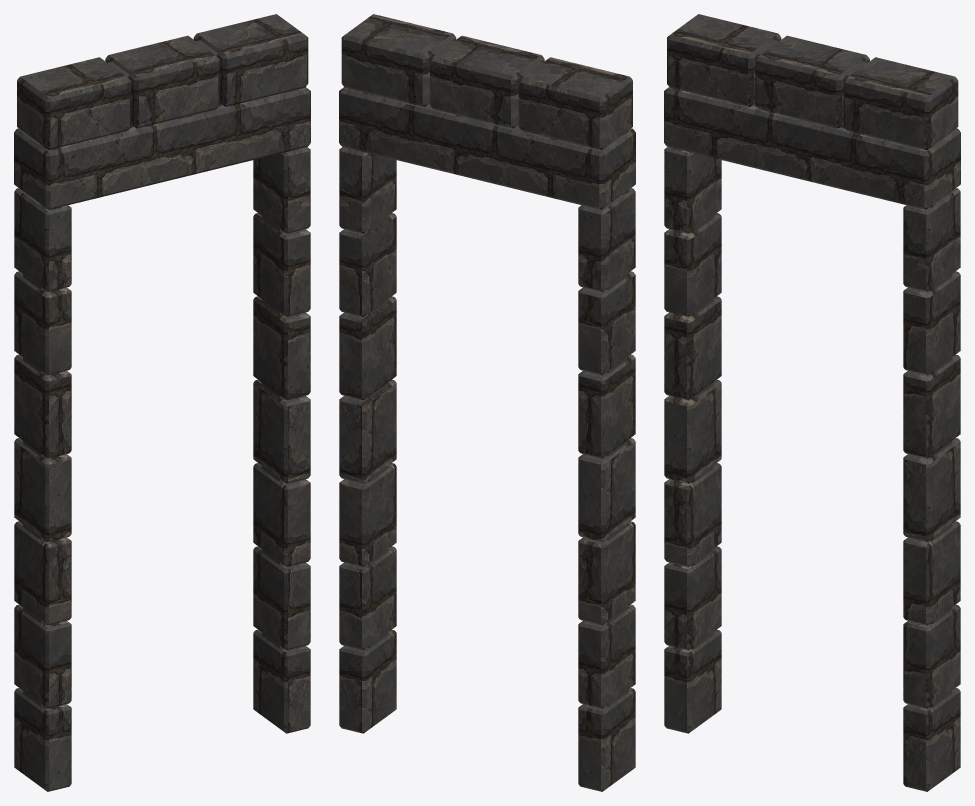
Rendered from doorframe_stone.glb.
The picture shows the model from 3 angles, left to right: view 1: azimuth 30°, elevation 25°; view 2: azimuth 150°, elevation 25°; view 3: azimuth 330°, elevation 25°; orthographic projection.
Parts seen in each view (by area): view 1: doorframe_stone; view 2: doorframe_stone; view 3: doorframe_stone.
Boxes of the visible parts, <box> form: doorframe_stone: <box>14,14,310,791</box>; doorframe_stone: <box>339,14,635,791</box>; doorframe_stone: <box>664,14,960,791</box>.
Bounding box in the file's own units: 1 × 2.5 × 0.23.
Materials: 2 (1 with a texture image).
